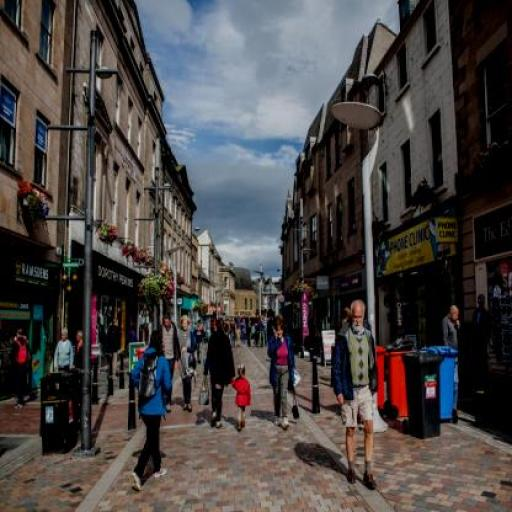street light: (78, 28, 118, 458), (152, 135, 170, 378), (188, 226, 202, 334)
